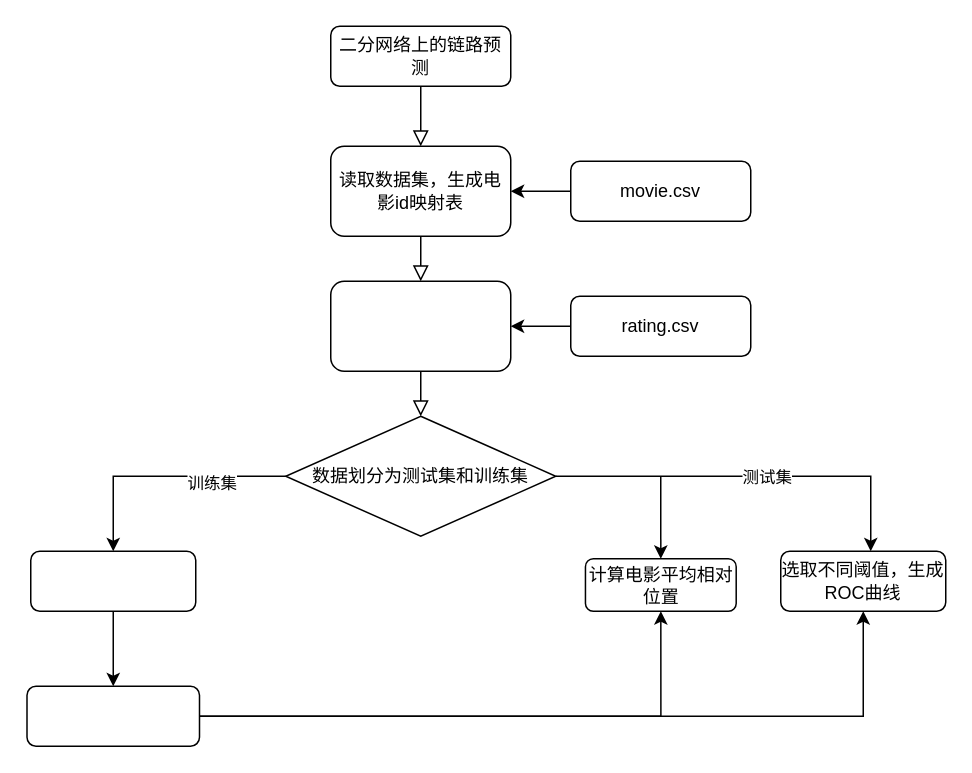
Some shapes in this 972 by 773 pixel diagram are drawn without their labels. Each missing label, with the box of its shape:
为用户生成电影推荐排名: (26, 685, 200, 746)
生成二分网络邻接矩阵: (329, 280, 511, 371)
计算资源配额矩阵: (29, 550, 196, 611)
